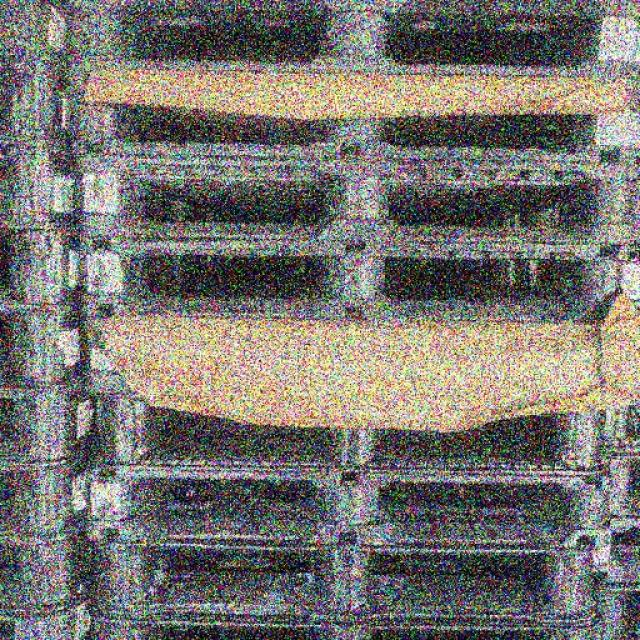igps: (55, 54, 640, 174), (64, 138, 640, 252), (70, 296, 640, 406), (72, 220, 640, 326), (89, 524, 612, 635), (85, 379, 619, 486), (76, 464, 621, 565), (56, 0, 640, 85), (86, 594, 609, 640), (0, 515, 106, 624), (0, 364, 108, 470), (0, 288, 95, 402), (0, 449, 102, 555), (0, 206, 93, 314), (0, 579, 100, 640)
